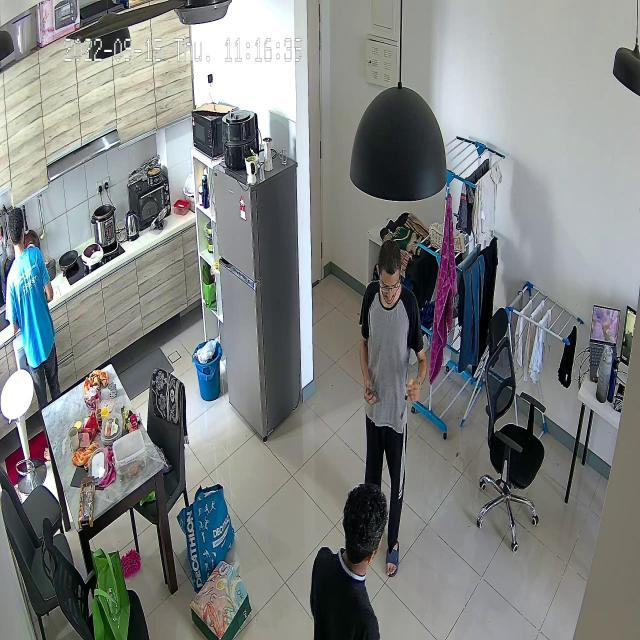Knife: (398, 376, 423, 431)
